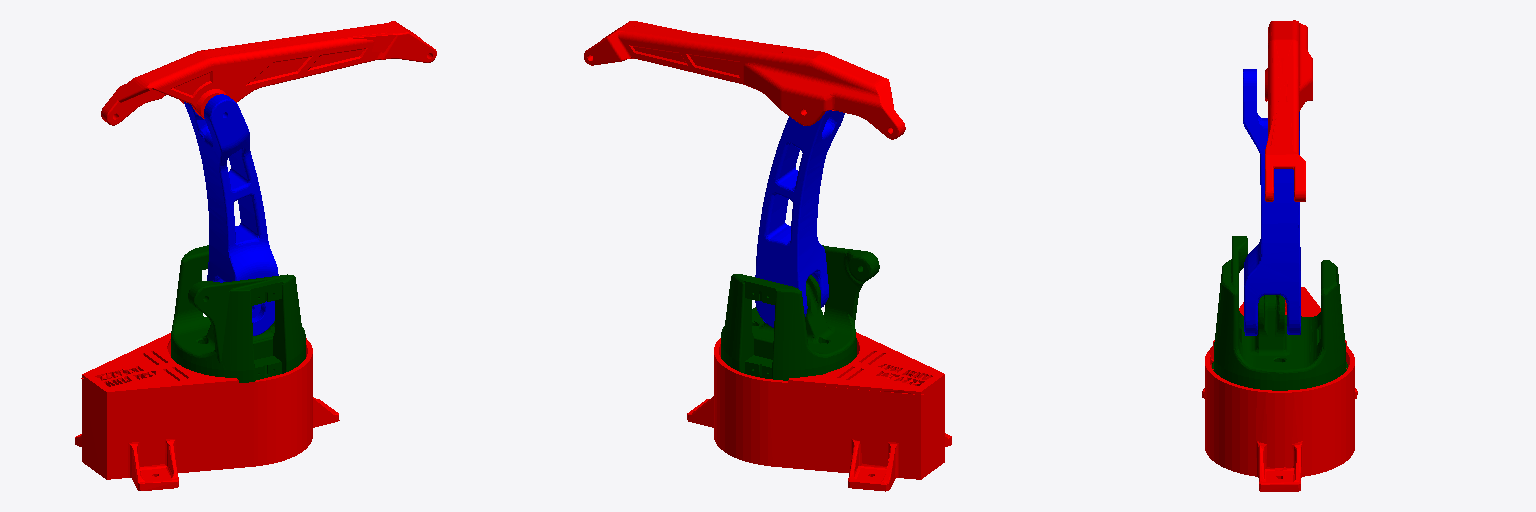
The robot description file, URDF, robot "ebamk2":
<?xml version="1.0"?>

<robot name="ebamk2">

<!-- BASE LINK -->
  <link
    name="base_link">
    <visual>
      <origin xyz="0 0 0" rpy="0 0 0" />
      <geometry>
        <mesh filename="package://ebamk2_description/meshes/base_link.STL" />
      </geometry>
      <material name="">
        <color rgba="1 0 0 1" />
      </material>
    </visual>
    <collision>
      <geometry>
        <cylinder length="0.0001" radius="0.0001"/>
      </geometry>
      <origin rpy="0 0 0" xyz="0 0 0"/>
    </collision>
  </link>

<!-- JOINT 1 HIP-->
  <joint name="joint_1" type="revolute">
    <origin xyz="0 0 0.05" rpy="0 0 0" />
    <parent link="base_link" />
    <child link="link_1" />
    <axis xyz="0 0 1" />
    <limit effort="0" velocity="0"
      lower="-0.7854" upper="0.7854"/>
  </joint>

<!-- LINK 1 HIP-->
  <link
    name="link_1">
    <visual>
      <origin
        xyz="0 -0.04 0" rpy="0 0 0" />
      <geometry>
        <mesh filename="package://ebamk2_description/meshes/link_1.STL" />
      </geometry>
      <material name="">
        <color rgba="0 0.275 0 1" />
      </material>
    </visual>
  </link>

<!-- JOINT 2 SHOULDER -->
  <joint name="joint_2" type="revolute">
    <origin xyz="0 -0.005 0.037" rpy="1.578 0 0" />
    <parent link="link_1" />
    <child link="link_2" />
    <axis xyz="0 0 1" />
    <limit effort="0" velocity="0"
      lower="-0.80" upper="0.35"/>
  </joint>

<!-- LINK 2 SHOULDER -->
  <link name="link_2">
    <visual>
      <origin xyz="0 0 0.0075" rpy="3.14159 0 0" />
      <geometry>
        <mesh filename="package://ebamk2_description/meshes/link_2.STL" />
      </geometry>
      <material name="">
        <color rgba="0 0 1 1" />
      </material>
    </visual>
  </link>

  <!-- VIRTUAL MIMIC JOINT 2-->
  <!--
  <joint name="joint2v" type="revolute">
    <origin xyz="-0.021 0.135 -0.0105" rpy="1.570796325 0 0" />
    <parent link="link_2"/>
    <child link="link_2v"/>
    <axis xyz="0 1 0"/>
    <limit effort="30" velocity="1.0" lower="-3.14159" upper="3.14159" />
    <mimic joint="joint_2" multiplier="-1" offset="0" />
  </joint>

  <link name="link_2v">
    <visual>
      <geometry>
        <cylinder length="0.001" radius="0.0001"/>
      </geometry>
      <material name="">
        <color rgba="0 0 0 0" />
      </material>
      <origin rpy="0 0 0" xyz="0 0 0"/>
    </visual>
    <collision>
      <geometry>
        <cylinder length="0.0001" radius="0.0001"/>
      </geometry>
      <origin rpy="0 0 0" xyz="0 0 0"/>
    </collision>
  </link>
-->
<!-- JOINT 3 ELBOW -->
  <joint name="joint_3" type="revolute">
    <!--<axis xyz="0 1 0" />
    <origin xyz="0 0 0" rpy="0 0 0" />
    <parent link="link_2v" />-->
    <axis xyz="0 0 1" />
    <origin xyz="-0.021 0.133 -0.0105" rpy="0 0 0" />
    <parent link="link_2" />
    <child link="link_3" />
    <limit effort="0" velocity="0"
      lower="-0.77" upper="0.45"/>
  </joint>

  <!-- LINK 3 ELBOW -->
   <link name="link_3">
    <visual>
      <!--<origin xyz="0 0.0335 0.002" rpy="1.570796325 0 0" />-->
      <origin xyz="0 0 0.0335" rpy="3.14159 0 0.1309" />
      <geometry>
        <mesh filename="package://ebamk2_description/meshes/link_3.STL" />
      </geometry>
      <material name="">
        <color rgba="1 0 0 1" />
      </material>
    </visual>
  </link>

  <!-- JOINT 4 CLAW SUPPORT -->
  <joint name="joint_4" type="revolute">
    <!--<origin xyz="0.1459 0.0185 0.0203" rpy="0 1.570796325 3.14159" />-->
    <origin xyz="0.147 0 0.018" rpy="-1.570796325 0 1.570796325" />
    <parent link="link_3" />
    <child link="link_4" />
    <axis xyz="0 1 0" />
    <limit effort="0" velocity="0" lower="-3.14159" upper="3.14159"/>
    <!--<mimic joint="joint_3" multiplier="1" offset="0" />-->
  </joint>

  <!-- LINK 4 CLAW SUPPORT -->
  <link name="link_4">
    <visual>
      <!--<origin xyz="-0.006 0 -0.0394" rpy="0 0 0" />-->
      <origin xyz="-0.006 0 -0.0394" rpy="0 0 0" />
      <geometry>
        <mesh filename="package://ebamk2_description/meshes/link_4.STL" scale="0.001 0.001 0.001" />
      </geometry>
      <material name="">
        <color rgba="0 0.275 0 1" />
      </material>  
    </visual>
  </link>

  <!-- JOINT 5 CLAW BASE -->
  <joint name="joint_5" type="fixed">
    <origin xyz="-0.0095 0.001 -0.033" rpy="-0 1.570796325 0" />
    <parent link="link_4" />
    <child link="claw_base" />
    <axis xyz="1 0 0" />
  </joint>

  <!-- LINK 4 CLAW BASE -->
  <link name="claw_base">
    <visual>
      <origin xyz="0 0 0" rpy="0 0 0" />
      <geometry>
        <mesh filename="package://ebamk2_description/meshes/link_5.STL" scale="0.001 0.001 0.001" />
      </geometry>
      <material name="">
        <color rgba="0 0 1 1" />
      </material>
    </visual>
  </link>

  <!-- FINGERS -->
  <joint name="joint_6" type="revolute">
    <origin xyz="0.0196 0.021 -0.004" rpy="0 0 0" />
    <parent link="claw_base"/>
    <child link="claw_l"/>
    <axis xyz="0 0 1" />
    <limit effort="0" lower="0" upper="0.65" velocity="1.0" />
  </joint>

  <joint name="joint_7" type="revolute">
    <origin xyz="0.0196 0.0040 -0.004" rpy="0 0 0" />
    <parent link="claw_base"/>
    <child link="claw_r"/>
    <axis xyz="0 0 -1" />
    <limit effort="0" lower="0" upper="0.65" velocity="1.0" />
    <mimic joint="joint_6" multiplier="1.0" offset="0" />
  </joint>

  <link name="claw_l">
    <visual>
      <origin xyz="0.0505 0.000 0" rpy="0 0 2.9" />
      <geometry>
        <mesh filename="package://ebamk2_description/meshes/claw_l.STL" scale="0.001 0.001 0.001" />
      </geometry>
    </visual>
  </link>

  <link name="claw_r">
    <visual>
      <origin xyz="0.0488 0.0102 0" rpy="0 0 3.14159" />
      <geometry>
        <mesh filename="package://ebamk2_description/meshes/claw_r.STL" scale="0.001 0.001 0.001" />
      </geometry>
    </visual>
  </link>

  <!-- TRANSMISSIONS -->
  <transmission name="trans_1">
    <type>transmission_interface/SimpleTransmission</type>
    <joint name="joint_1">
      <hardwareInterface>PositionJointInterface</hardwareInterface>
    </joint>
    <actuator name="servo1">
      <hardwareInterface>PositionJointInterface</hardwareInterface>
      <mechanicalReduction>1</mechanicalReduction>
    </actuator>
  </transmission>
  <transmission name="trans_2">
    <type>transmission_interface/SimpleTransmission</type>
    <joint name="joint_2">
      <hardwareInterface>PositionJointInterface</hardwareInterface>
    </joint>
    <actuator name="servo2">
      <hardwareInterface>PositionJointInterface</hardwareInterface>
      <mechanicalReduction>1</mechanicalReduction>
    </actuator>
  </transmission>
  <transmission name="trans_3">
    <type>transmission_interface/SimpleTransmission</type>
    <joint name="joint_3">
      <hardwareInterface>PositionJointInterface</hardwareInterface>
    </joint>
    <actuator name="servo3">
      <hardwareInterface>PositionJointInterface</hardwareInterface>
      <mechanicalReduction>1</mechanicalReduction>
    </actuator>
  </transmission>
  <transmission name="trans_6">
    <type>transmission_interface/SimpleTransmission</type>
    <joint name="joint_6">
      <hardwareInterface>PositionJointInterface</hardwareInterface>
    </joint>
    <actuator name="servo4">
      <hardwareInterface>PositionJointInterface</hardwareInterface>
      <mechanicalReduction>1</mechanicalReduction>
    </actuator>
  </transmission>

</robot>

--- Render facts (derived) ---
3 views of the same robot in one strip: view 1: azimuth 30°, elevation 25°; view 2: azimuth 150°, elevation 25°; view 3: azimuth 270°, elevation 25° (orthographic).
Robot: ebamk2 — 8 links, 7 joints (6 revolute, 1 fixed); root link base_link; default pose: all joints at 0.
Links seen in each view (by area): view 1: base_link, link_3, link_1, link_2; view 2: base_link, link_3, link_1, link_2; view 3: base_link, link_1, link_2, link_3.
Boxes of the visible links, x1,y1,x2,y2 form: base_link: (75,333,339,490); link_3: (101,21,436,125); link_1: (171,245,305,382); link_2: (184,94,278,335); base_link: (687,332,951,491); link_3: (584,21,905,139); link_1: (721,245,879,380); link_2: (755,110,844,327); base_link: (1202,287,1357,491); link_1: (1212,236,1347,390); link_2: (1243,69,1300,335); link_3: (1265,20,1312,201).
Bounding box of the posed robot: 0.2301 × 0.0907 × 0.2521 m (x, y, z).
Meshes: 8 distinct files referenced, 4 mesh visuals loaded (4 binary STL); not drawn: 4 (reference not matched to a file when rendering).
